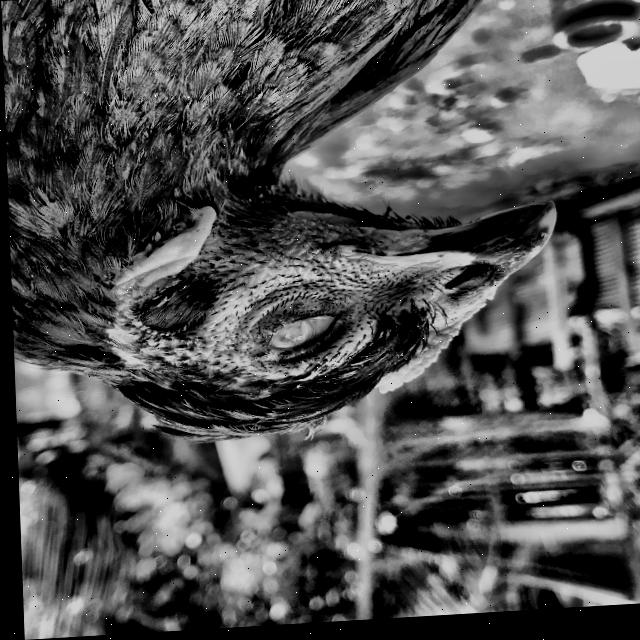Coryza: (0, 0, 581, 473)
